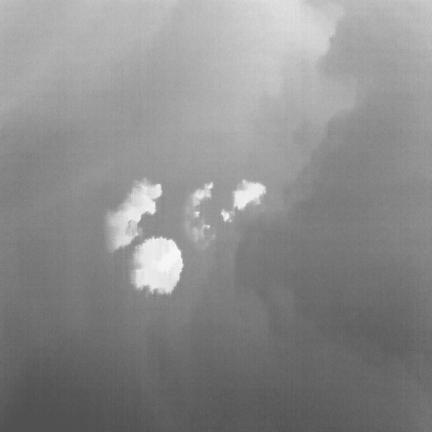flukeprints: (106, 178, 161, 250), (131, 237, 183, 294), (233, 180, 265, 209)
